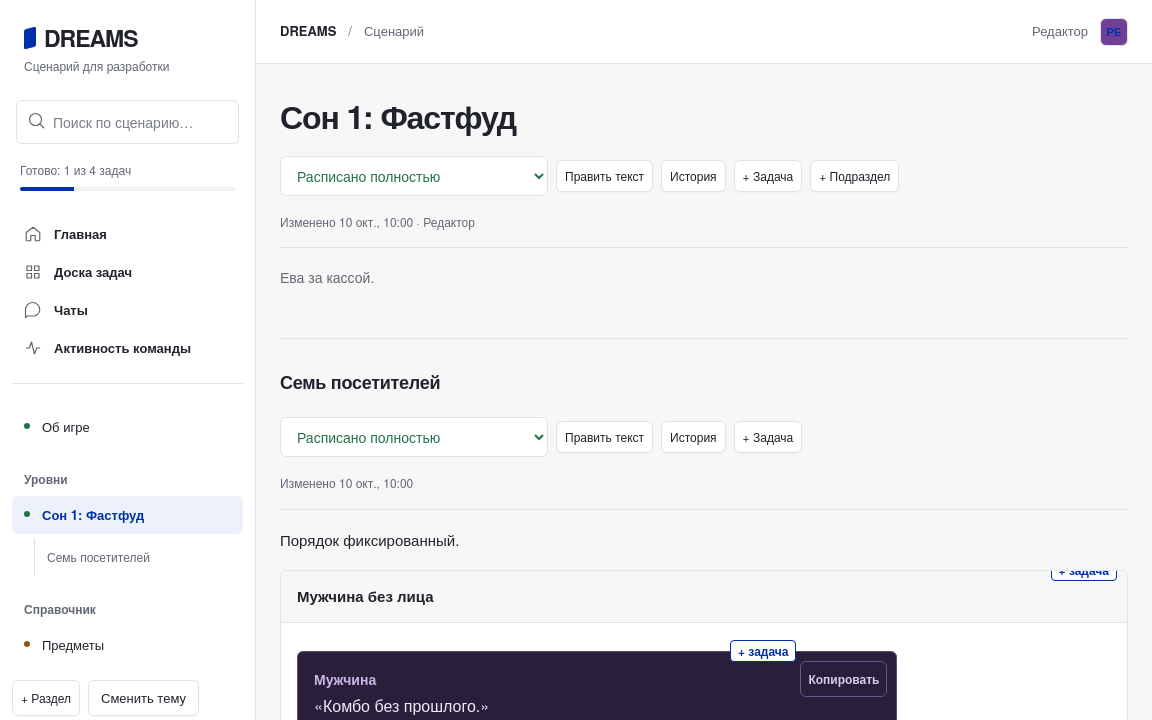
Test: SectionPage › shows an inline error when a status change is rejected
Select "Есть концепт" in the dropdown named "Статус раздела" in the row of "+ Подраздел" at [414, 176], box x1=280 y1=156 x2=548 y2=196
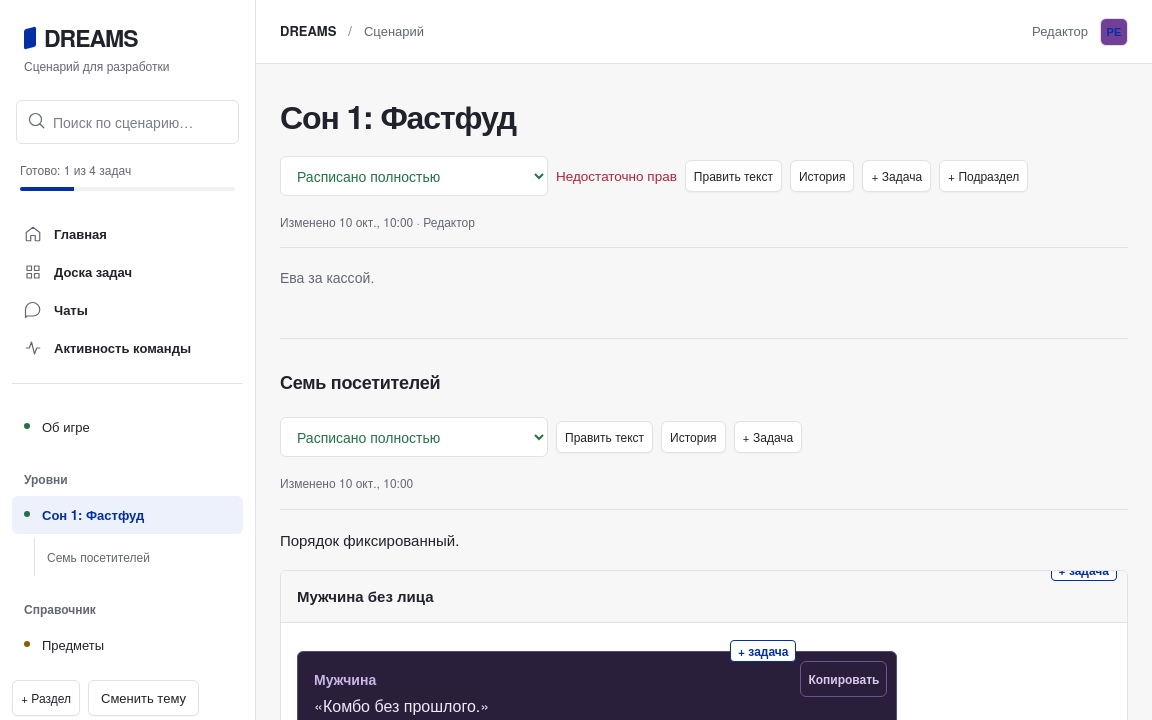
Result: the message reads "Недостаточно прав" at x1=556 y1=166 x2=677 y2=185
